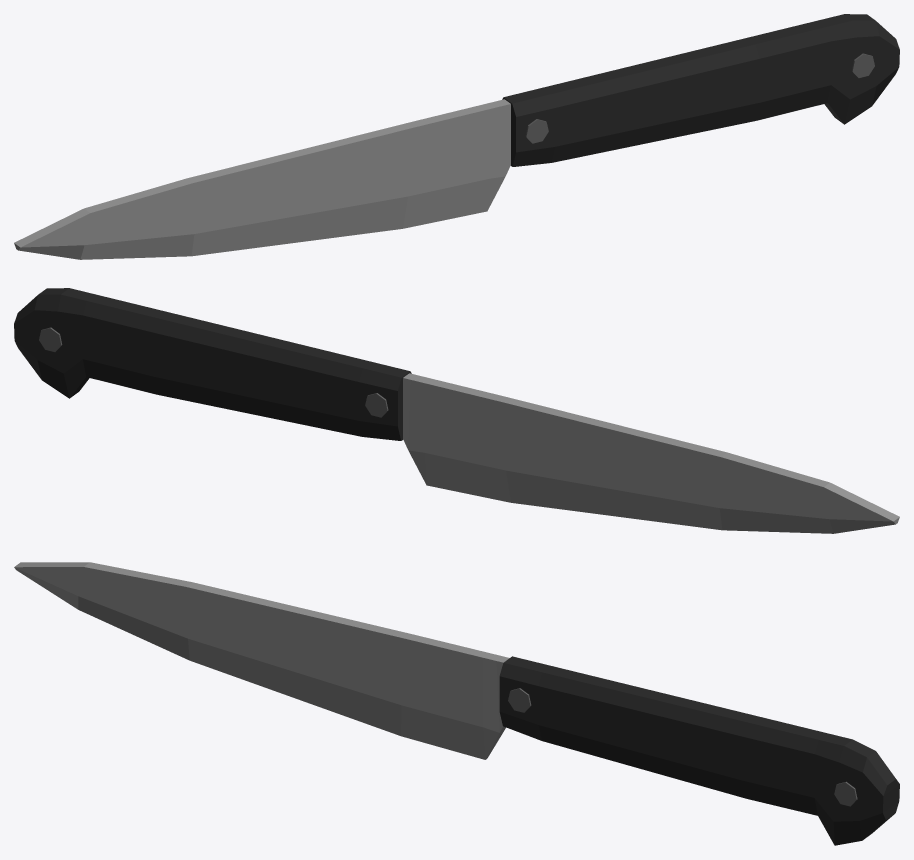
File: Kitchen Knife.fbx
The picture shows the model from 3 angles, top to bottom: view 1: azimuth 30°, elevation 25°; view 2: azimuth 150°, elevation 25°; view 3: azimuth 330°, elevation 25°; orthographic projection.
Visible parts, largest first — view 1: Kitchen Knife; view 2: Kitchen Knife; view 3: Kitchen Knife.
Boxes of the visible parts, x1,y1,x2,y2 form: Kitchen Knife: (14,14,899,259); Kitchen Knife: (14,288,899,533); Kitchen Knife: (14,562,899,845).
Bounding box in the file's own units: 952 × 109 × 34.78.
Materials: 1 (1 with a texture image).
